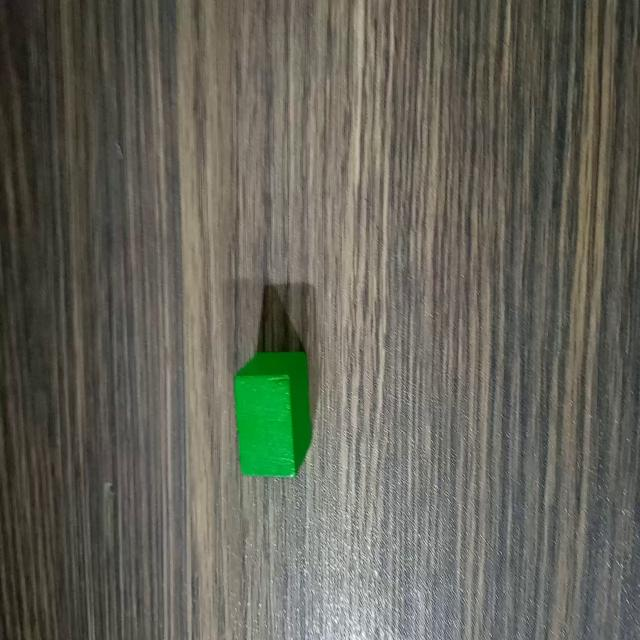cube: (229, 349, 314, 489)
